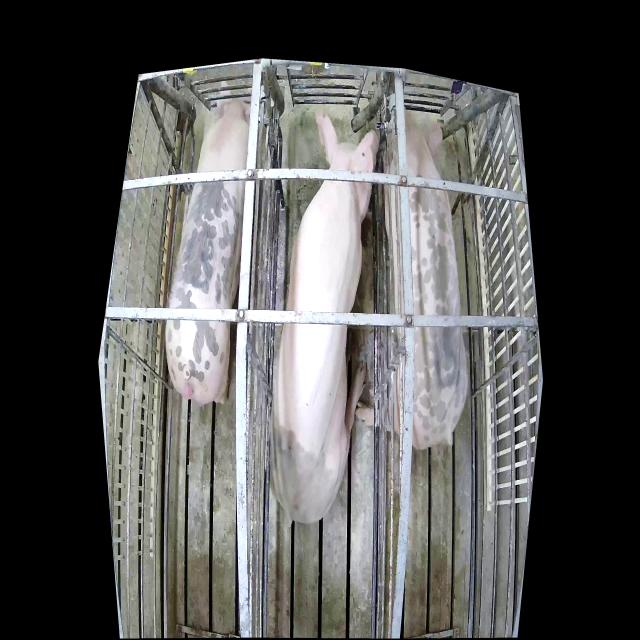pig: (269, 107, 382, 522), (358, 101, 468, 448), (166, 94, 250, 408)
